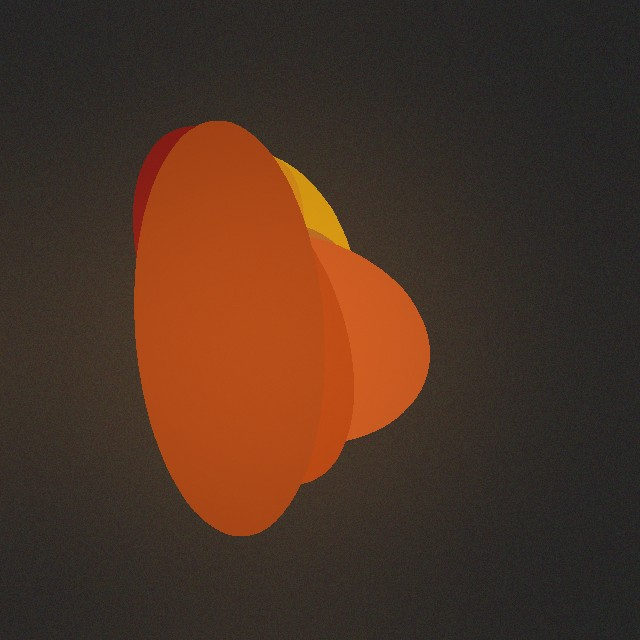fire: (210, 199, 316, 489)
